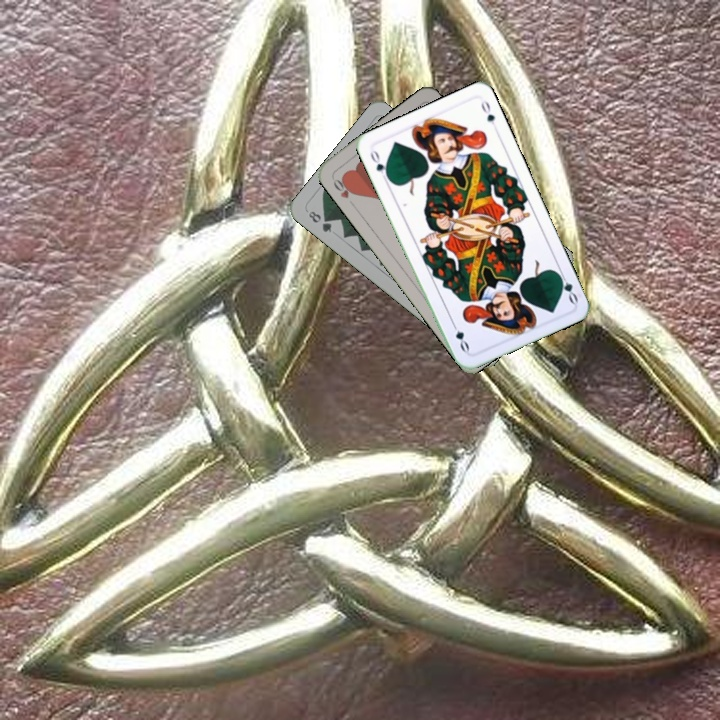G8: (304, 207, 334, 235)
GO: (553, 267, 581, 306), (366, 146, 392, 184)
HO: (329, 173, 358, 201)
